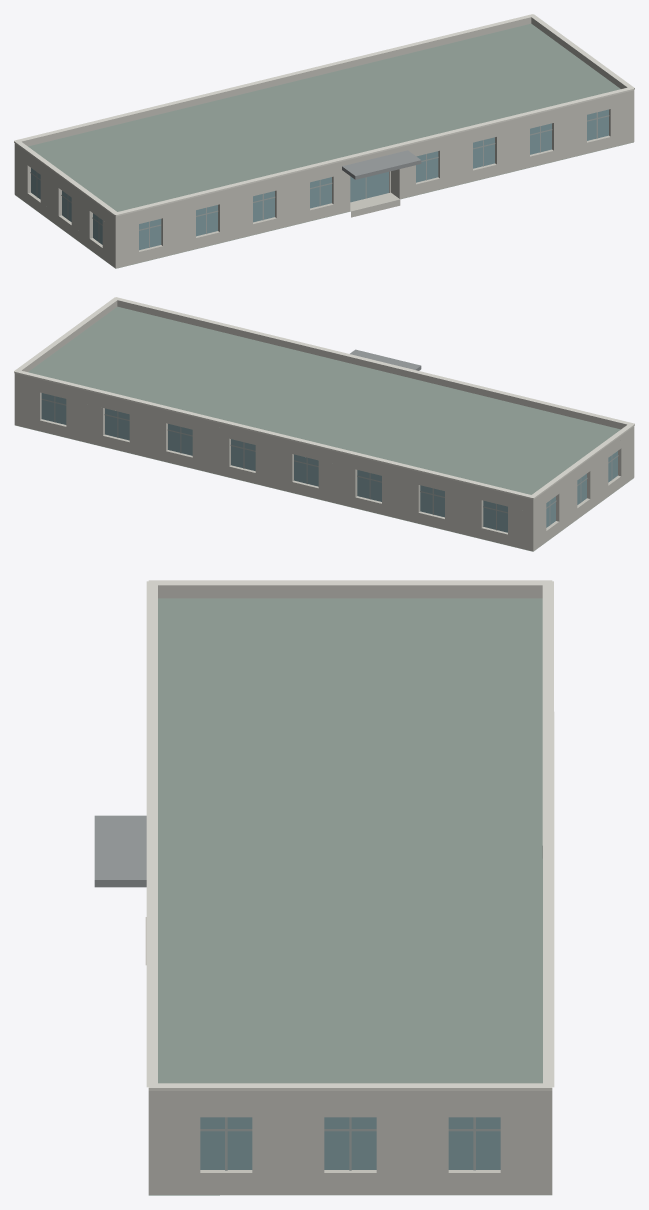
The picture shows the model from 3 angles, top to bottom: view 1: azimuth 30°, elevation 25°; view 2: azimuth 150°, elevation 25°; view 3: azimuth 270°, elevation 25°; orthographic projection. The views are drawn at different scales.
Parts seen in each view (by area): view 1: aux-1168524946__roof, aux-1168524946__wall, aux-1168524946__parapet, aux-1168524946__glass, aux-1168524946__trim, aux-1168524946__canopy, aux-1168524946__frame, aux-1168524946__entranceThreshold_0; view 2: aux-1168524946__roof, aux-1168524946__wall, aux-1168524946__parapet, aux-1168524946__glass, aux-1168524946__trim, aux-1168524946__frame, aux-1168524946__canopy; view 3: aux-1168524946__roof, aux-1168524946__wall, aux-1168524946__trim, aux-1168524946__parapet, aux-1168524946__glass, aux-1168524946__canopy, aux-1168524946__frame.
Part boxes in pixels (box(x1,y1,x2,y2)): aux-1168524946__roof: box(15, 23, 633, 268); aux-1168524946__wall: box(14, 95, 634, 268); aux-1168524946__parapet: box(14, 17, 634, 220); aux-1168524946__glass: box(31, 109, 608, 250); aux-1168524946__trim: box(14, 14, 634, 216); aux-1168524946__canopy: box(342, 150, 421, 179); aux-1168524946__frame: box(30, 112, 609, 247); aux-1168524946__entranceThreshold_0: box(350, 192, 400, 217); aux-1168524946__roof: box(15, 306, 633, 551); aux-1168524946__wall: box(14, 378, 634, 551); aux-1168524946__parapet: box(14, 300, 634, 503); aux-1168524946__glass: box(41, 393, 617, 532); aux-1168524946__trim: box(14, 297, 634, 499); aux-1168524946__frame: box(41, 396, 618, 530); aux-1168524946__canopy: box(350, 349, 421, 370); aux-1168524946__roof: box(148, 598, 551, 1195); aux-1168524946__wall: box(148, 1100, 552, 1194); aux-1168524946__trim: box(146, 580, 554, 1090); aux-1168524946__parapet: box(148, 585, 552, 1100); aux-1168524946__glass: box(200, 1117, 500, 1169); aux-1168524946__canopy: box(94, 815, 146, 887); aux-1168524946__frame: box(200, 1117, 500, 1170).
Size of the model in its own units: 37.92 by 4.15 by 14.51.
